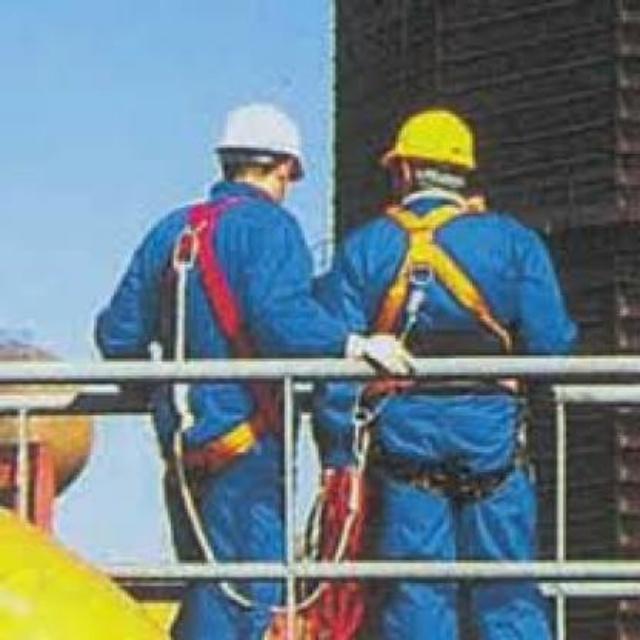Arnes_seguridad: (361, 202, 532, 493), (152, 196, 296, 485)
